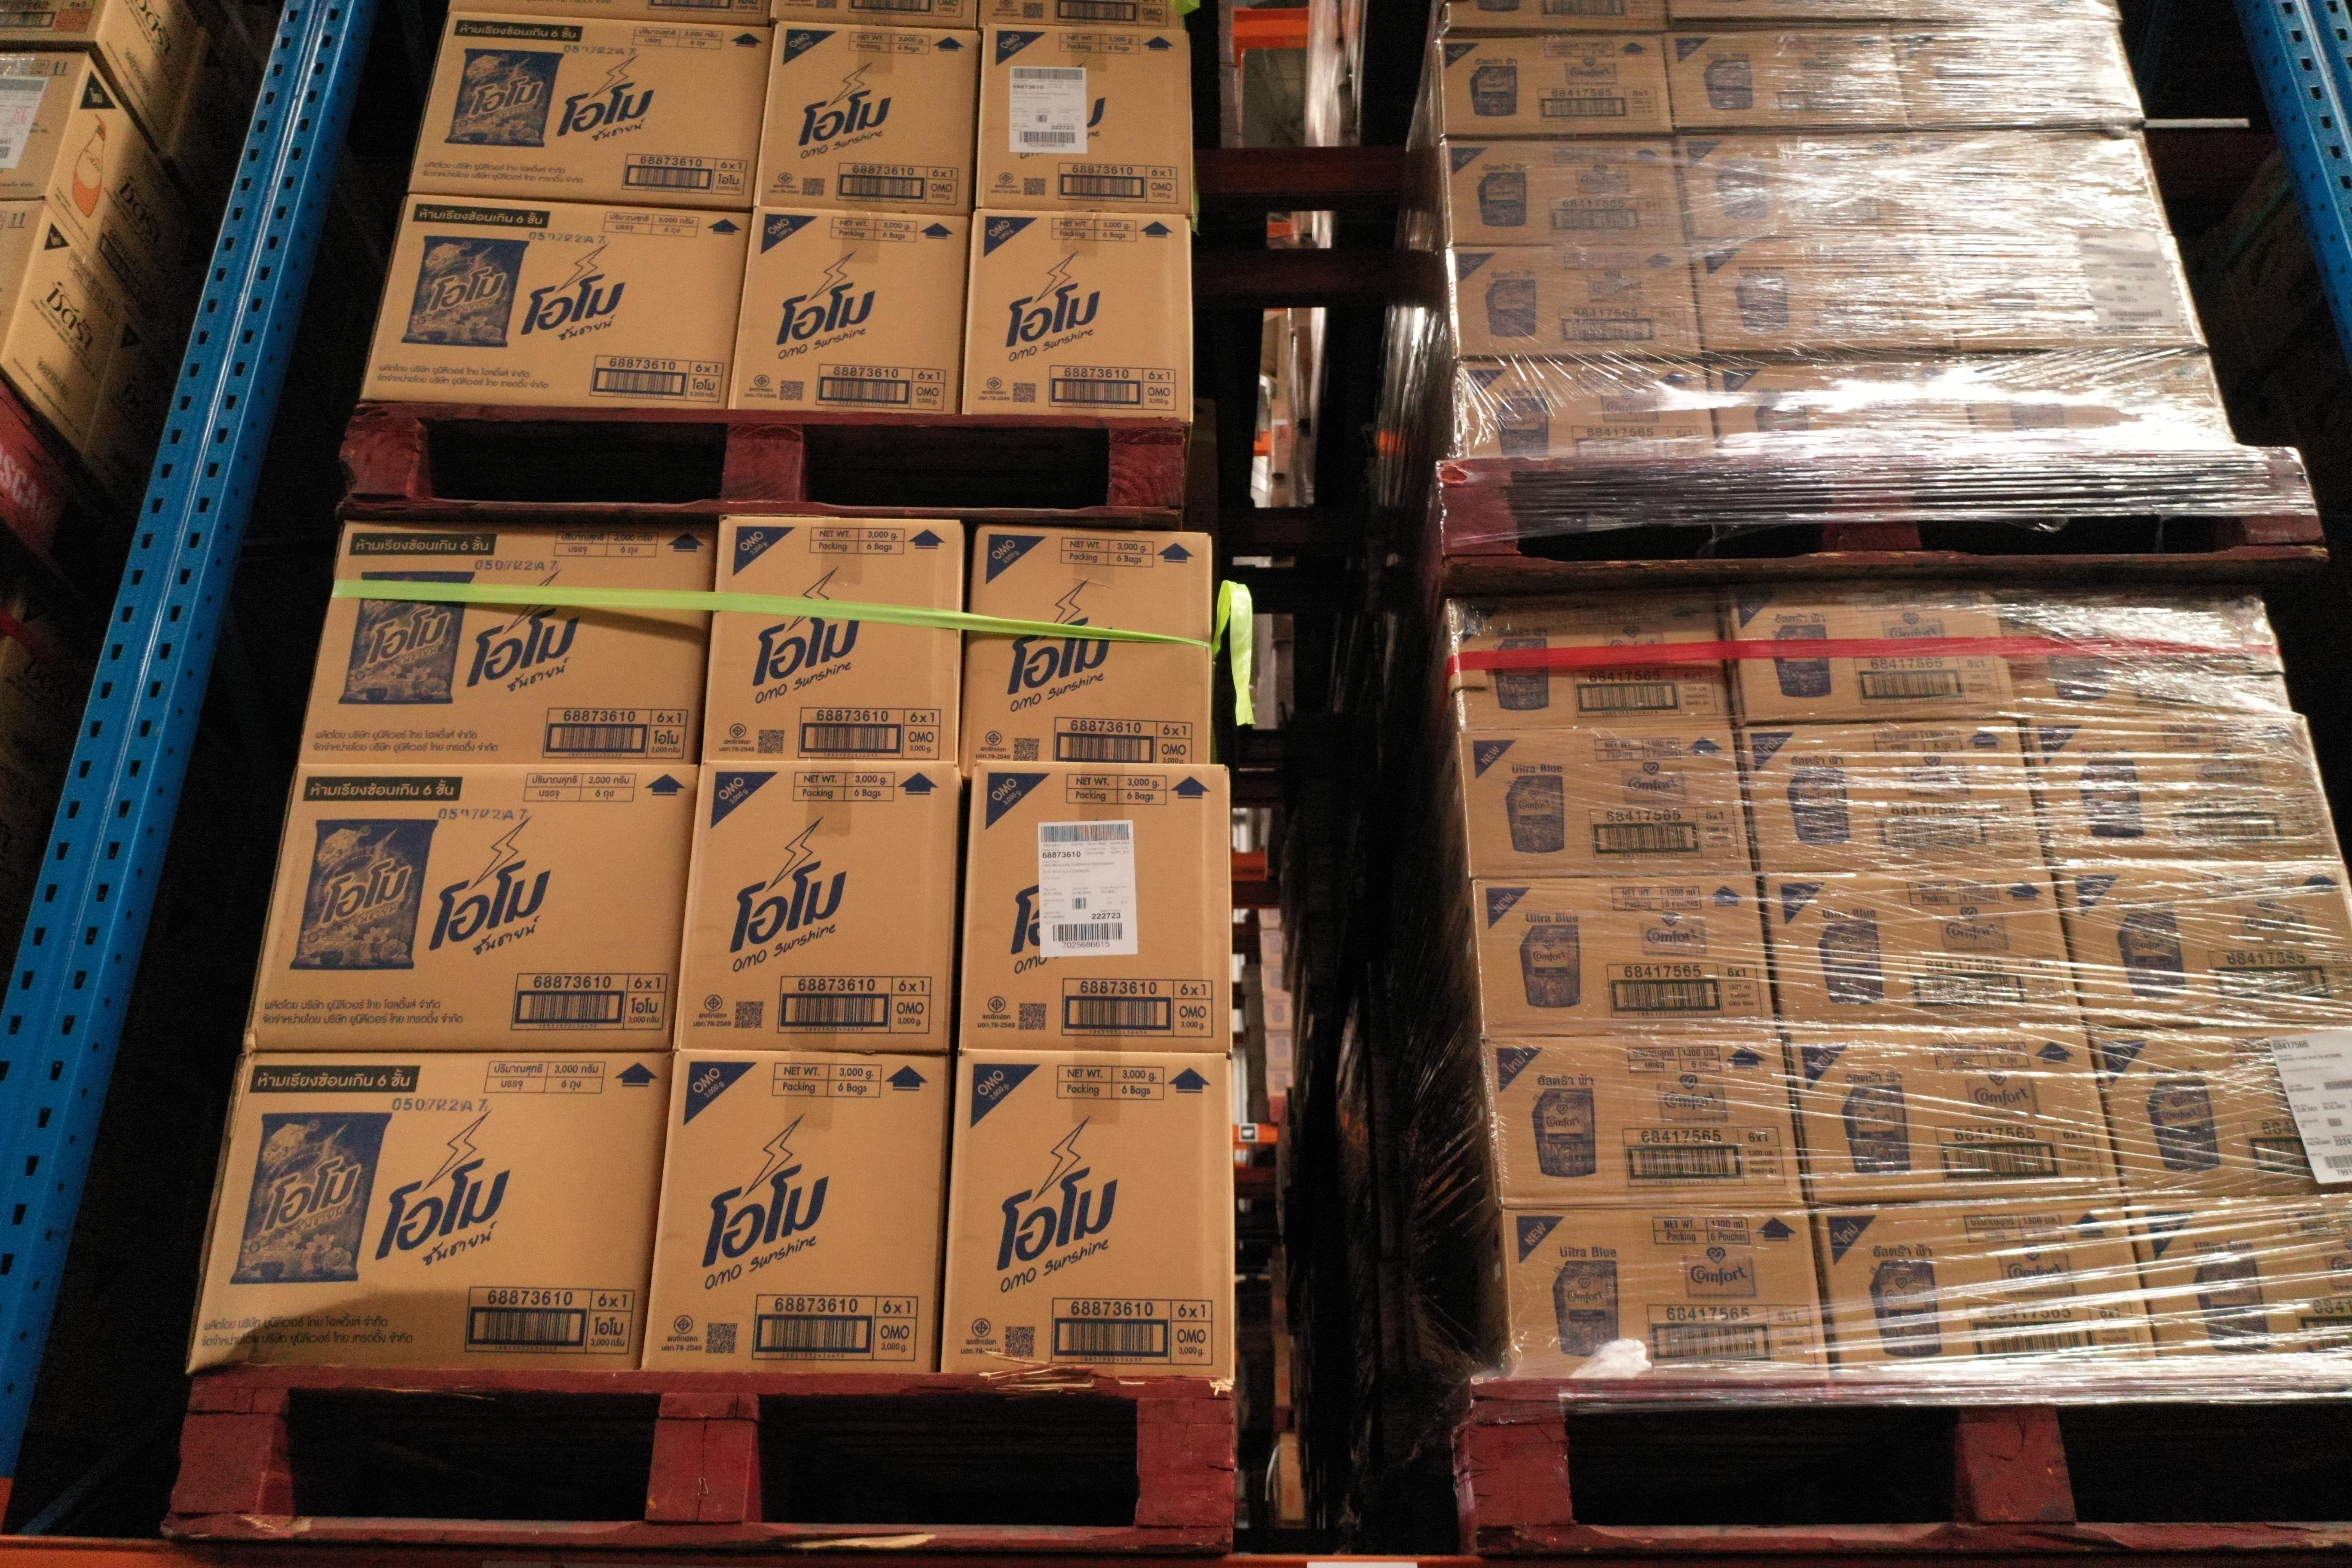-: (185, 1048, 675, 1375), (248, 761, 698, 1053), (296, 520, 719, 765), (933, 1048, 1235, 1384), (644, 1048, 954, 1374), (359, 191, 747, 406), (672, 763, 959, 1053), (954, 756, 1232, 1055), (408, 10, 772, 215), (700, 514, 961, 766), (1816, 1199, 2159, 1388), (1783, 1029, 2123, 1213), (962, 525, 1213, 766), (1480, 1034, 1808, 1209), (1500, 1206, 1827, 1379), (1470, 873, 1773, 1046), (1764, 866, 2086, 1029), (731, 208, 968, 418), (961, 213, 1190, 422), (2056, 866, 2352, 1027), (2026, 719, 2338, 870), (2091, 1025, 2352, 1200), (1736, 723, 2046, 870), (751, 17, 982, 210), (971, 19, 1193, 215), (1461, 731, 1753, 877), (2126, 1195, 2352, 1377), (1998, 595, 2296, 728), (1449, 600, 1732, 733), (1725, 597, 2016, 724), (1935, 234, 2208, 357), (1913, 124, 2173, 243), (1706, 350, 1977, 464), (1689, 236, 1958, 350), (1445, 243, 1706, 360), (1438, 133, 1690, 254), (1675, 129, 1932, 247), (1960, 348, 2236, 455), (1886, 19, 2147, 131), (1452, 357, 1722, 464), (1659, 26, 1909, 135), (1431, 31, 1671, 143)
